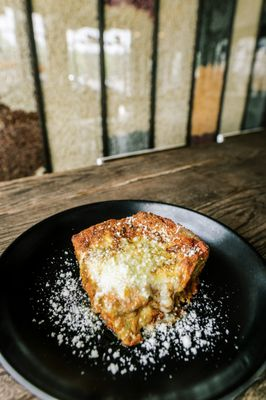curry: (0, 139, 265, 398)
sushi: (71, 211, 211, 347)
